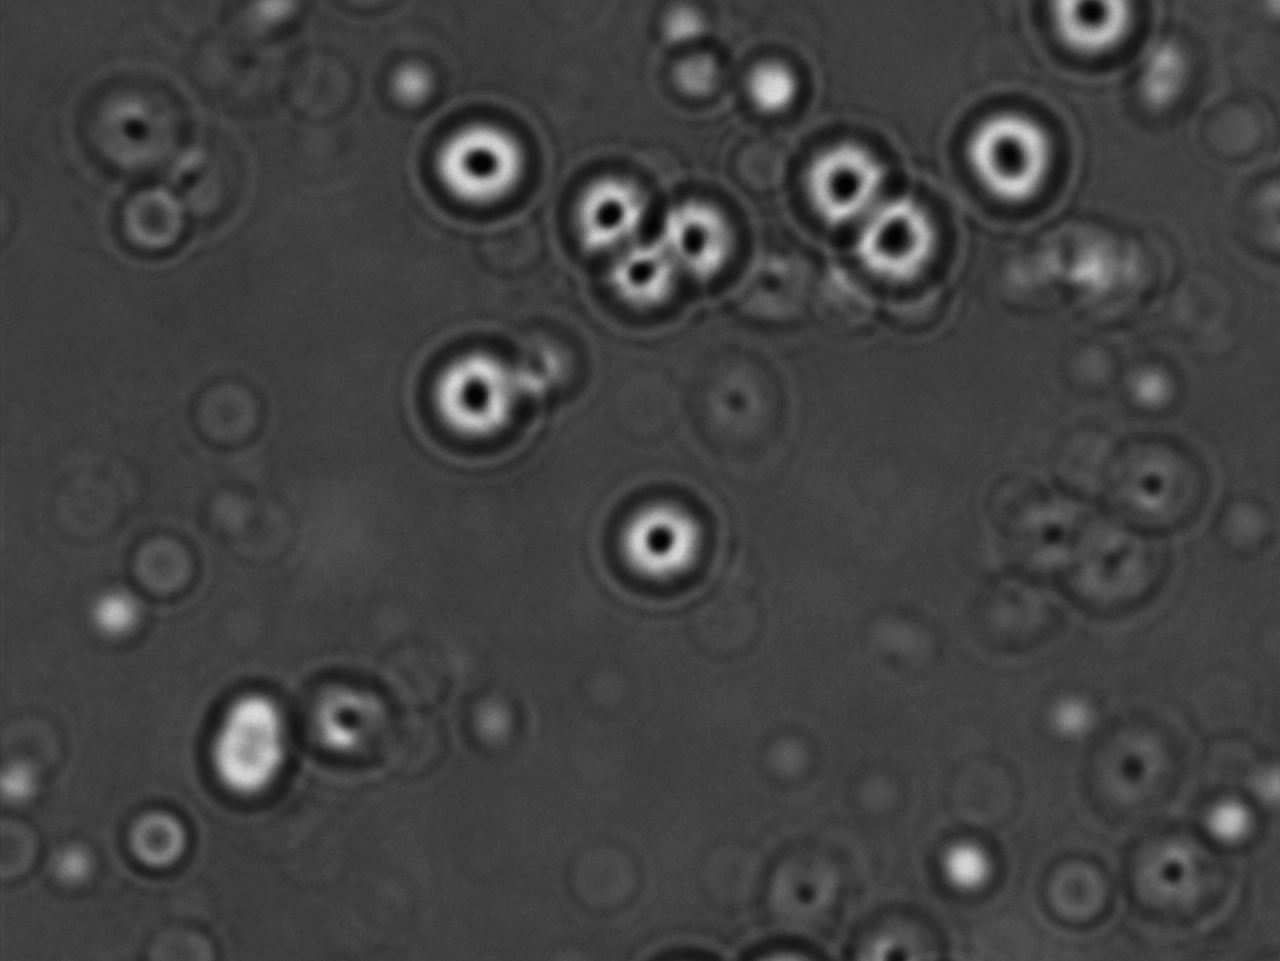depth:16: (410, 90, 551, 239), (403, 324, 541, 467), (588, 477, 728, 609), (943, 87, 1079, 218), (641, 175, 759, 301), (847, 178, 962, 305), (781, 118, 901, 238), (551, 149, 671, 266), (586, 218, 698, 330)
